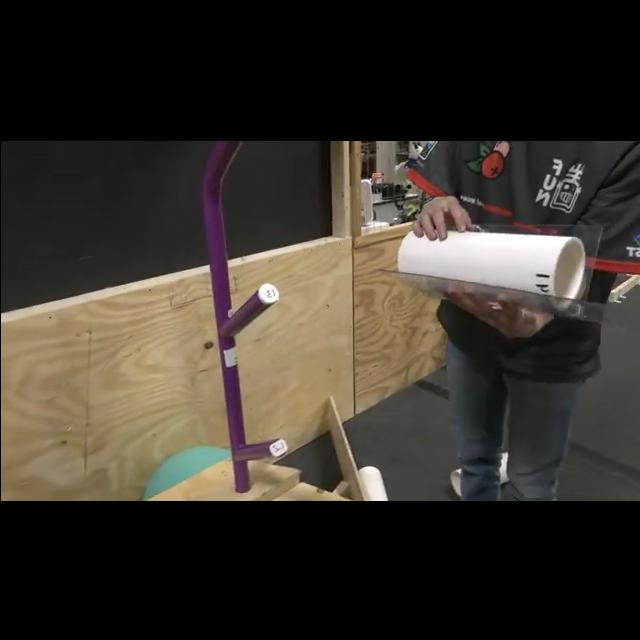CORAL: (395, 226, 587, 298)
